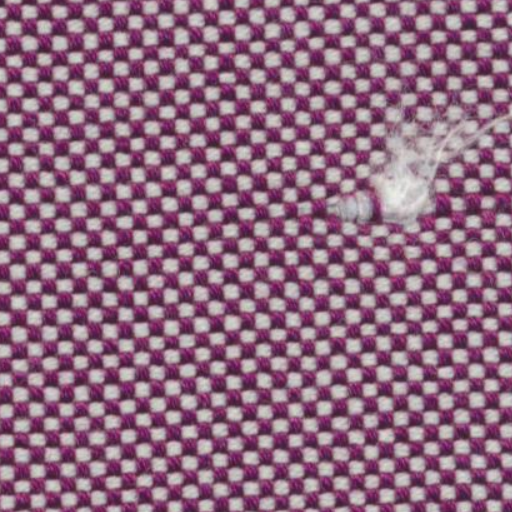DuanSha: (328, 87, 500, 250)
